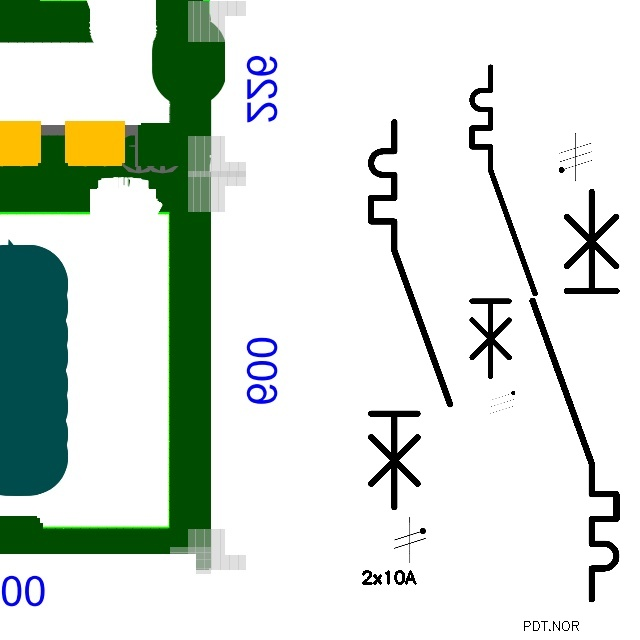interruptor_termomagnetico: (522, 181, 627, 609), (361, 112, 460, 517), (464, 59, 543, 384)
